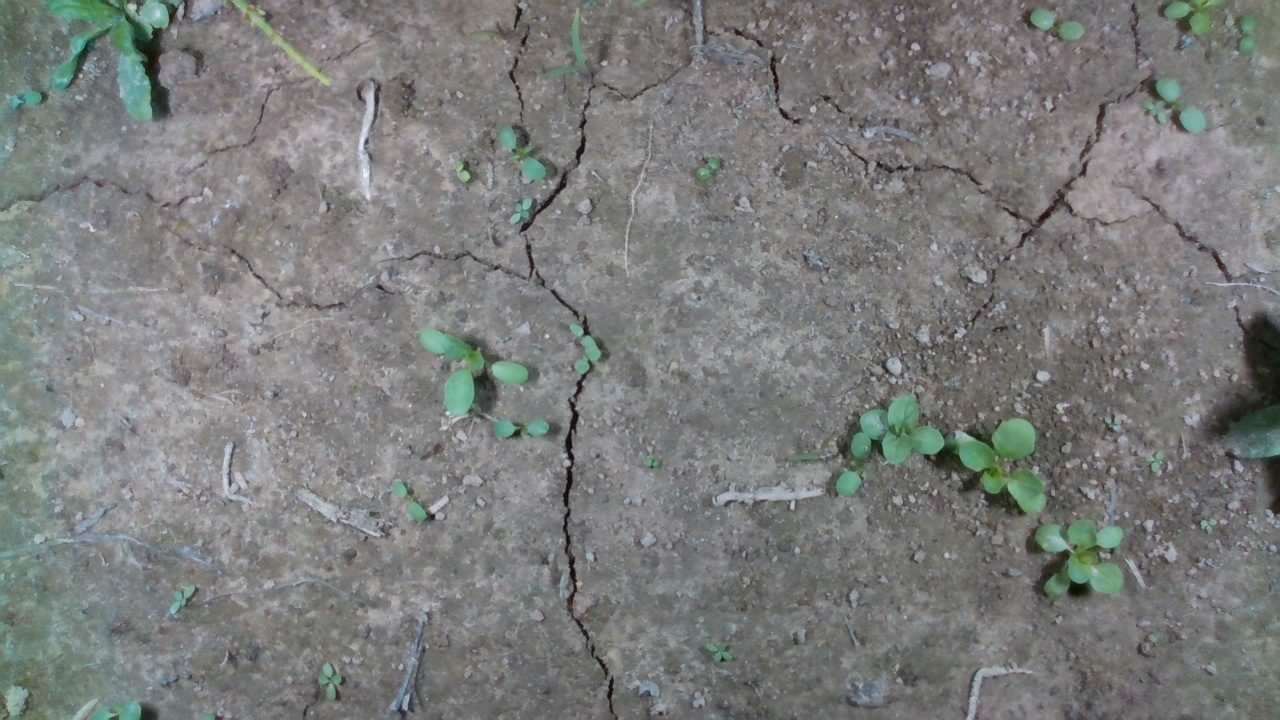weed: (497, 121, 554, 181), (1155, 77, 1209, 136), (490, 412, 573, 448), (1032, 2, 1091, 48), (384, 477, 432, 533), (699, 639, 741, 671), (506, 192, 539, 226), (688, 151, 722, 182), (316, 663, 343, 702), (161, 584, 193, 613), (1142, 445, 1170, 475), (447, 157, 475, 185), (1140, 99, 1169, 125), (1193, 514, 1233, 532), (1240, 15, 1258, 55), (641, 449, 660, 471)
